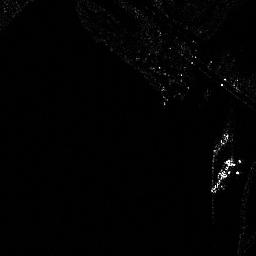ship: (210, 155, 234, 194), (212, 130, 229, 157)
